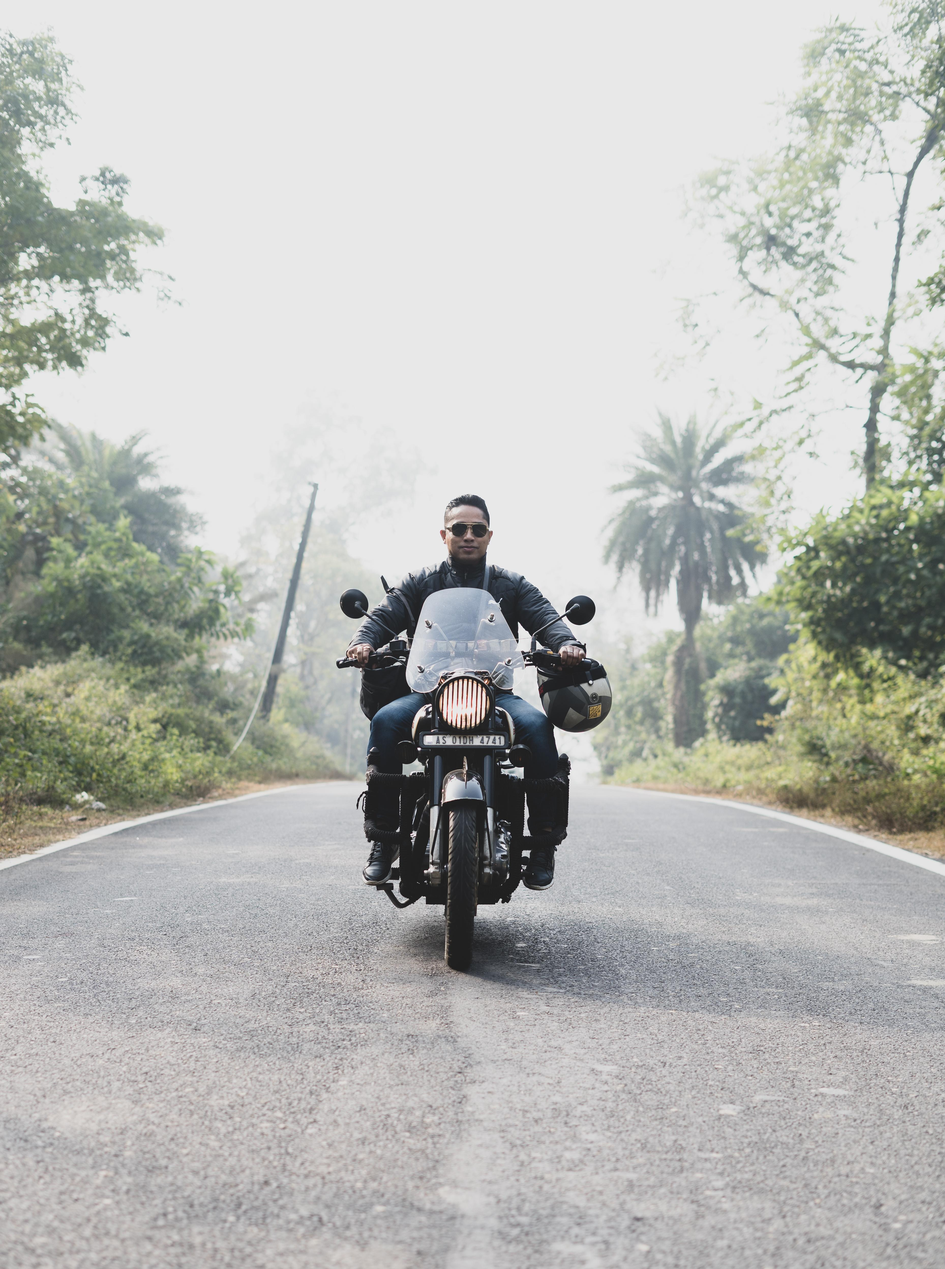nohelmet: (427, 480, 527, 574)
